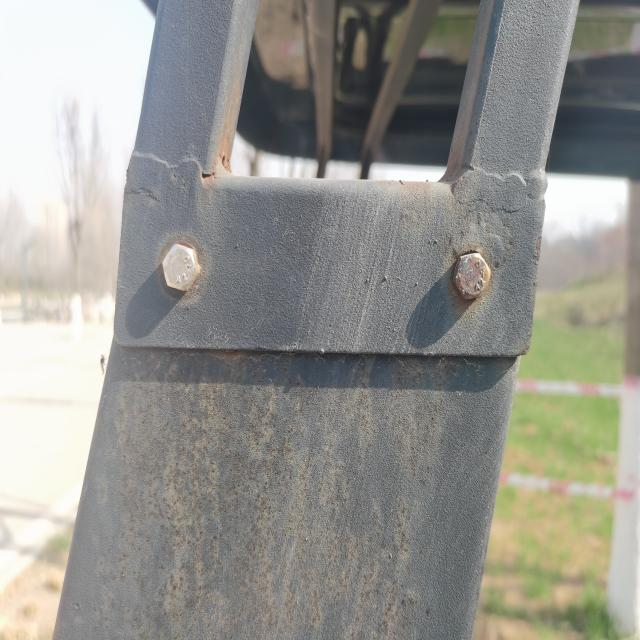bolt head: (450, 248, 492, 302), (162, 243, 201, 292)
